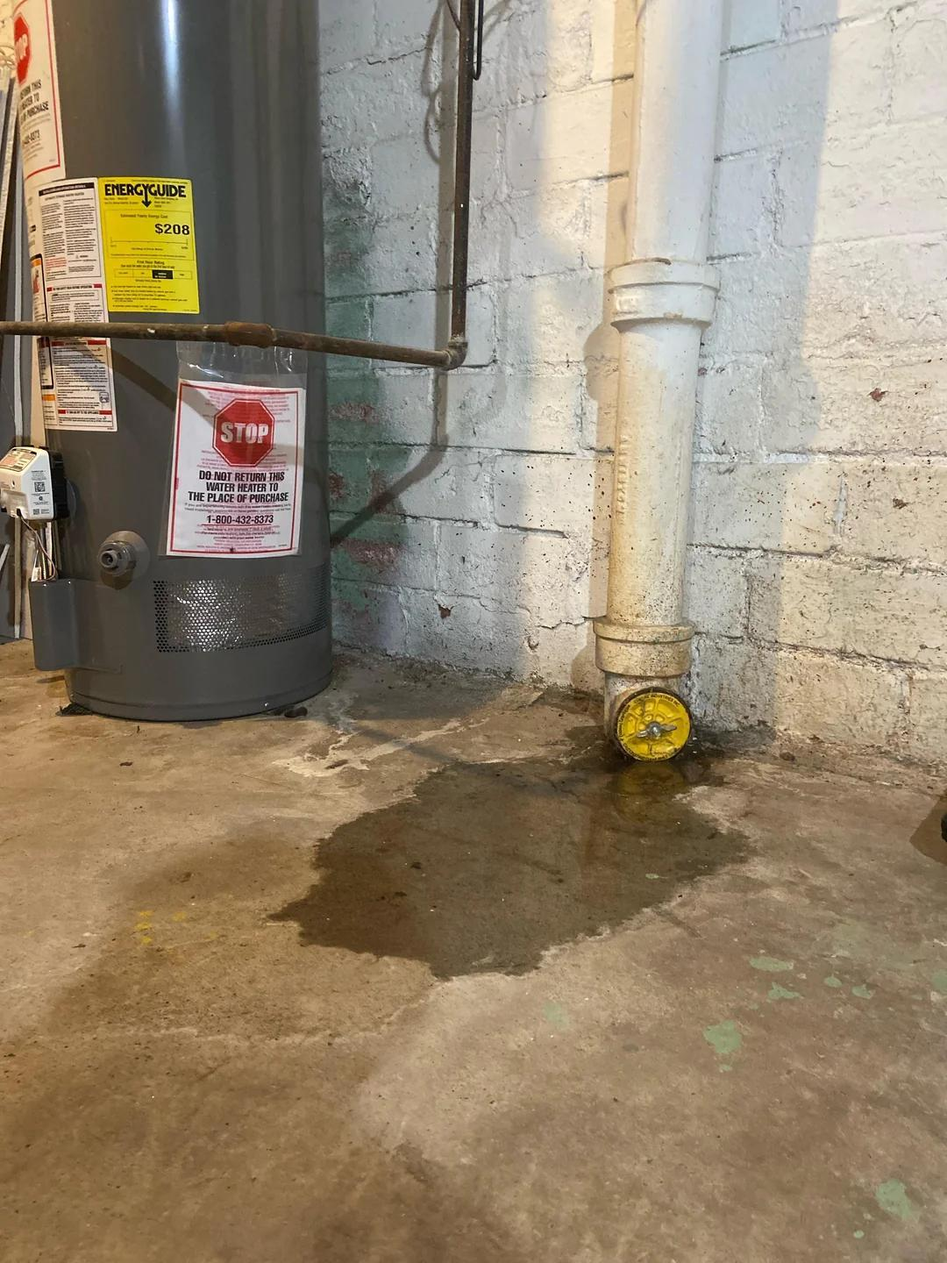water accumulation: (276, 728, 745, 981)
